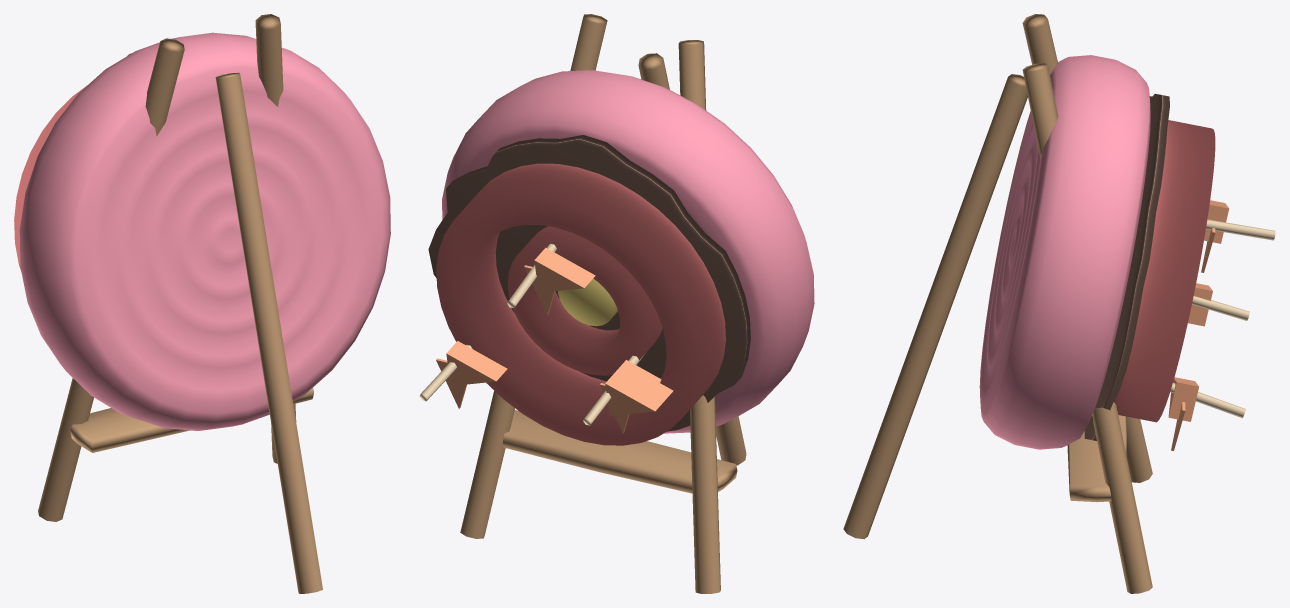
The model's file is ArrowAmbushHayTarget.glb.
3 renders of one model, left to right at view 1: azimuth 30°, elevation 25°; view 2: azimuth 150°, elevation 25°; view 3: azimuth 270°, elevation 25°, orthographic.
Parts seen in each view (by area): view 1: Straw, Wood, Rings; view 2: Rings, Straw, Wood, Face, Fletching, Bull, Shafts; view 3: Straw, Wood, Rings, Face, Fletching, Shafts.
Boxes of the visible parts, x1=… form: Straw: x1=19, y1=32, x2=390, y2=430; Wood: x1=38, y1=14, x2=322, y2=593; Rings: x1=14, y1=86, x2=86, y2=271; Rings: x1=436, y1=163, x2=725, y2=445; Straw: x1=442, y1=70, x2=814, y2=433; Wood: x1=460, y1=14, x2=746, y2=593; Face: x1=428, y1=135, x2=750, y2=431; Fletching: x1=436, y1=247, x2=673, y2=433; Bull: x1=558, y1=278, x2=617, y2=326; Shafts: x1=419, y1=243, x2=644, y2=425; Straw: x1=979, y1=55, x2=1150, y2=449; Wood: x1=843, y1=14, x2=1152, y2=593; Rings: x1=1114, y1=120, x2=1215, y2=422; Face: x1=1084, y1=93, x2=1169, y2=440; Fletching: x1=1168, y1=200, x2=1229, y2=450; Shafts: x1=1170, y1=219, x2=1275, y2=418.
Size of the model in its own units: 3.98 by 5.47 by 4.33.
